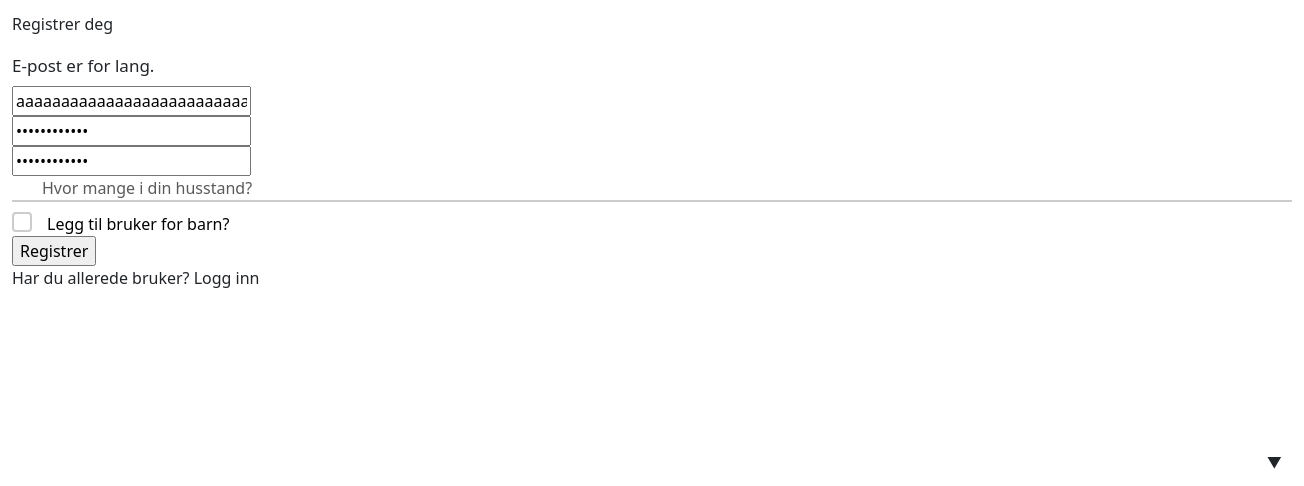
Scenario: Signup form validation › should show an error message if passwords are not the same
Replace the text in the field with placeholder "E-post..." with "test@example.com": (132, 101) [12, 86, 251, 116]
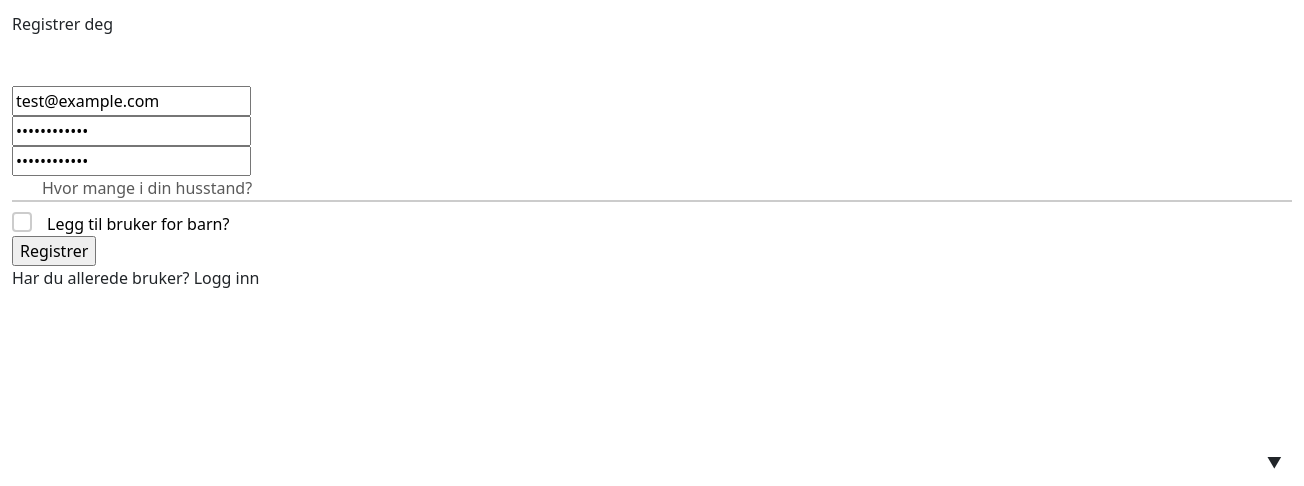
In the 1st password field with placeholder "Passord...": (132, 131) [12, 116, 251, 146], type "testpassword1"
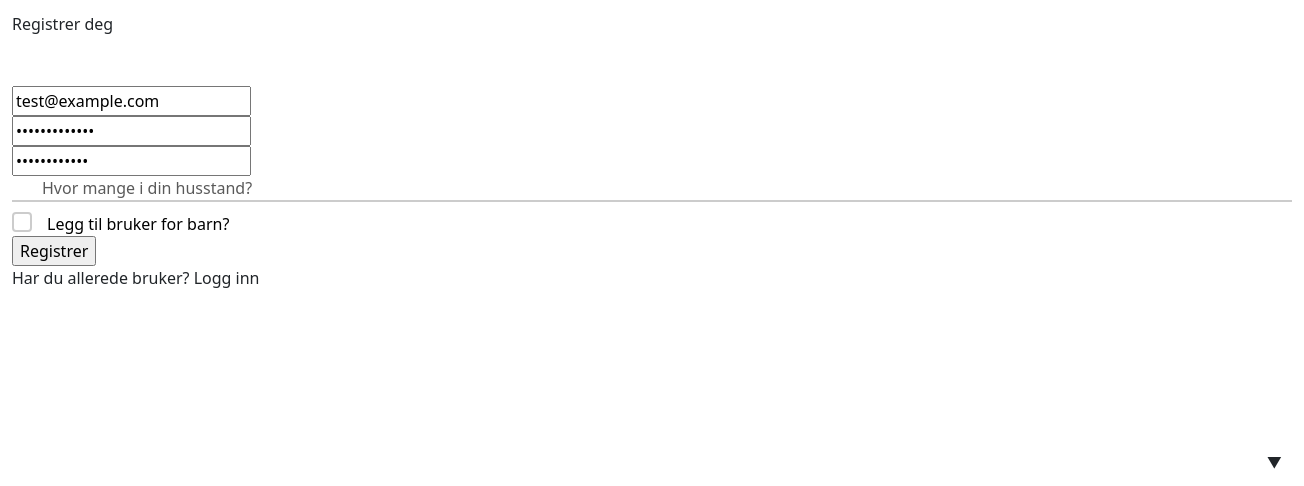
In the 2nd password field with placeholder "Bekreft passord...": (132, 161) [12, 146, 251, 176], type "testpassword2"
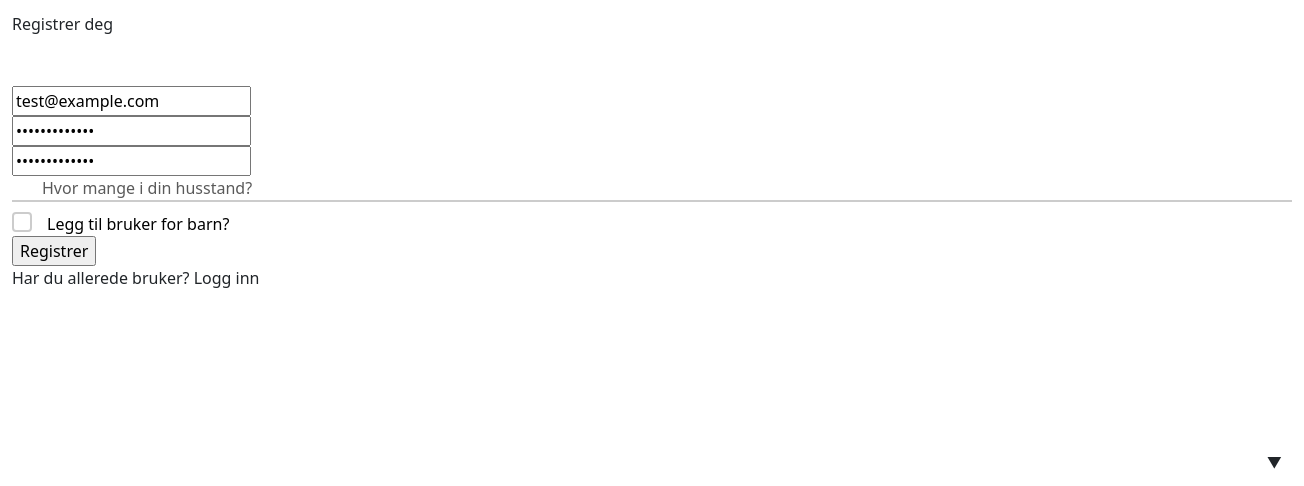
Submit the form, box [12, 86, 1292, 290]
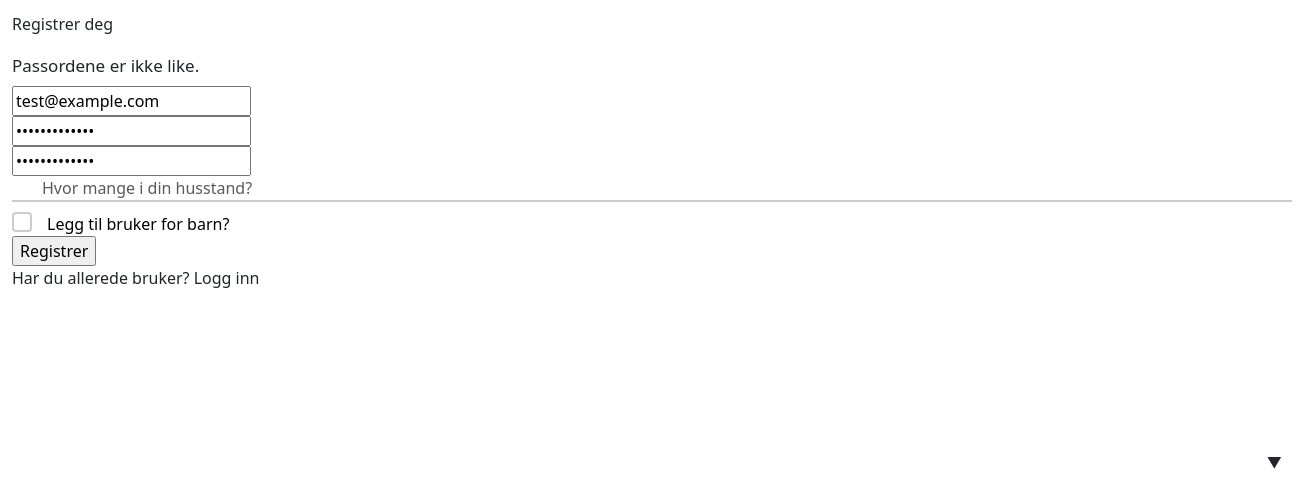
Expected: the heading "Passordene er ikke like." is shown, [12, 54, 199, 77]
